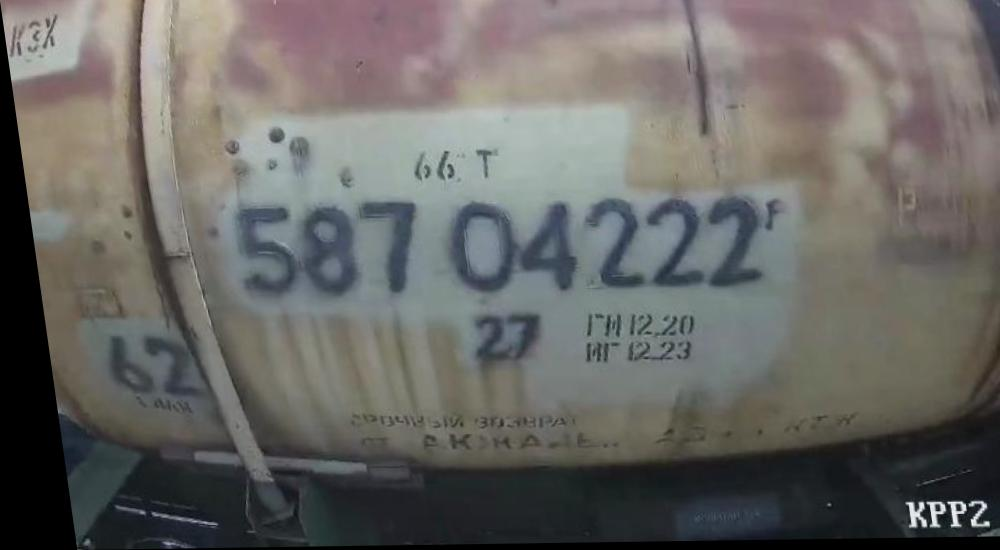Wagon-number: (222, 192, 767, 303)
